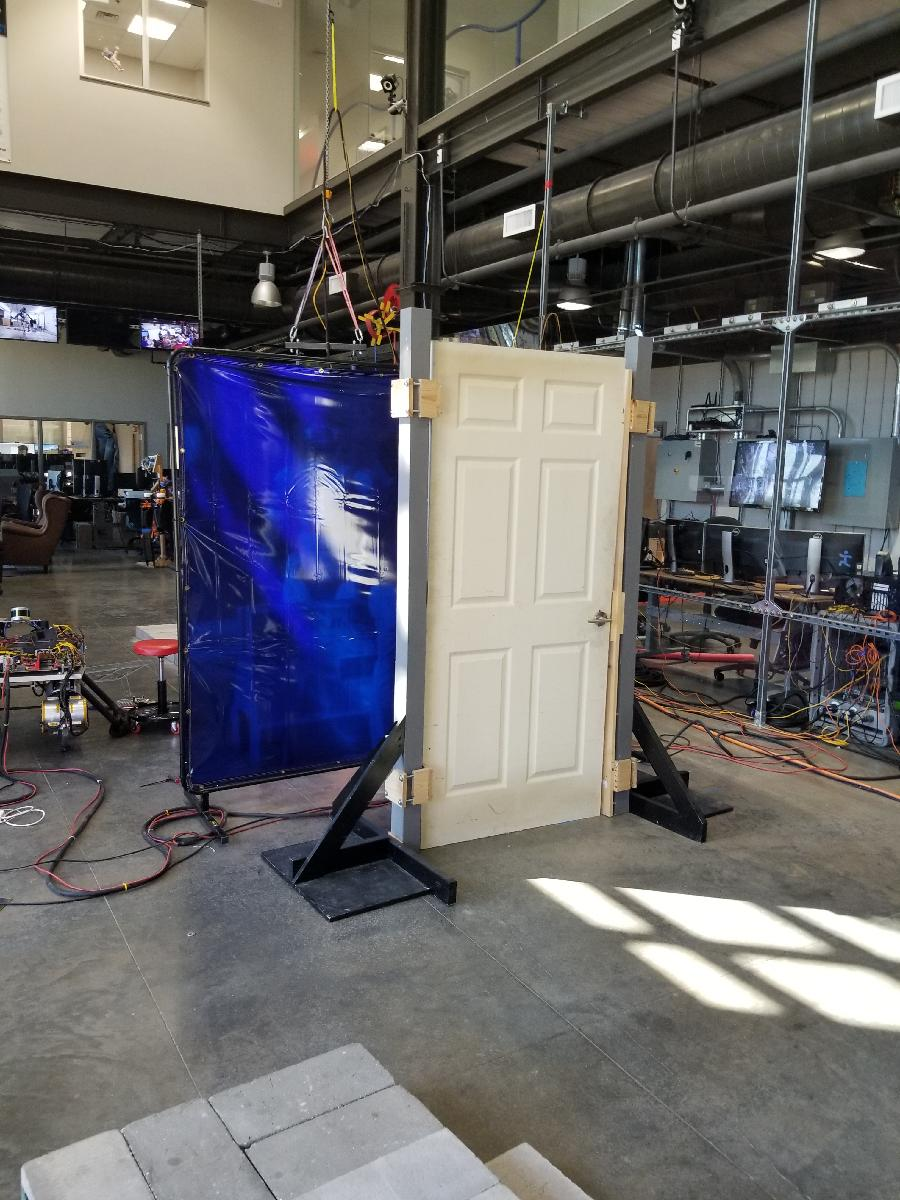door: (415, 334, 631, 870)
doorHandle: (577, 609, 616, 635)
